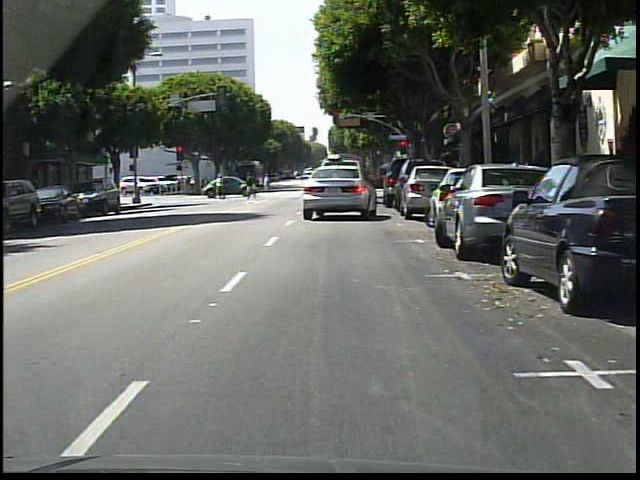person: (244, 171, 257, 200), (215, 174, 228, 199), (267, 174, 268, 192)
